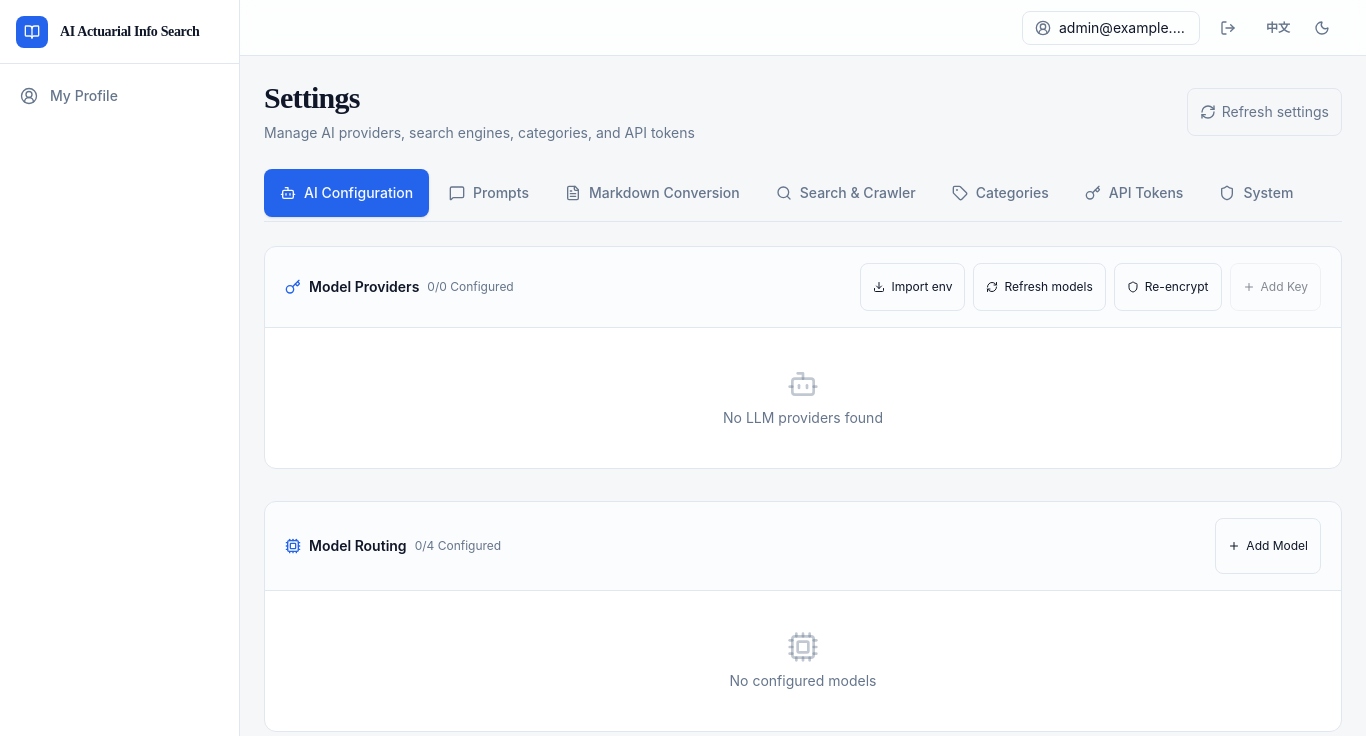
it: translates canonical role choices while retaining submitted values
Click the button with test id "tab-tokens" at point(1134, 193), box x1=1069 y1=169 x2=1199 y2=217
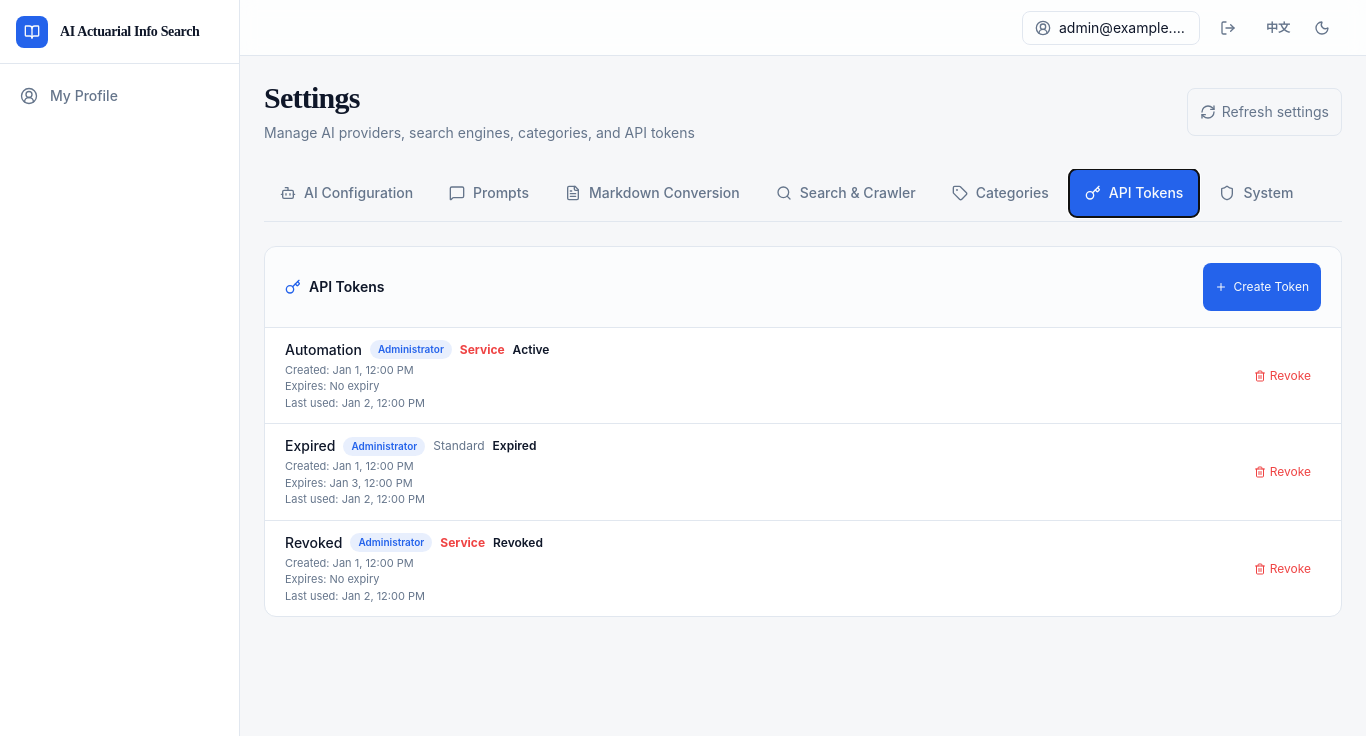
Check: the element with test id "token-row-10" is shown, box x1=265 y1=328 x2=1341 y2=424
Click the button with test id "button-create-token" at point(1262, 287), box x1=1204 y1=263 x2=1321 y2=311
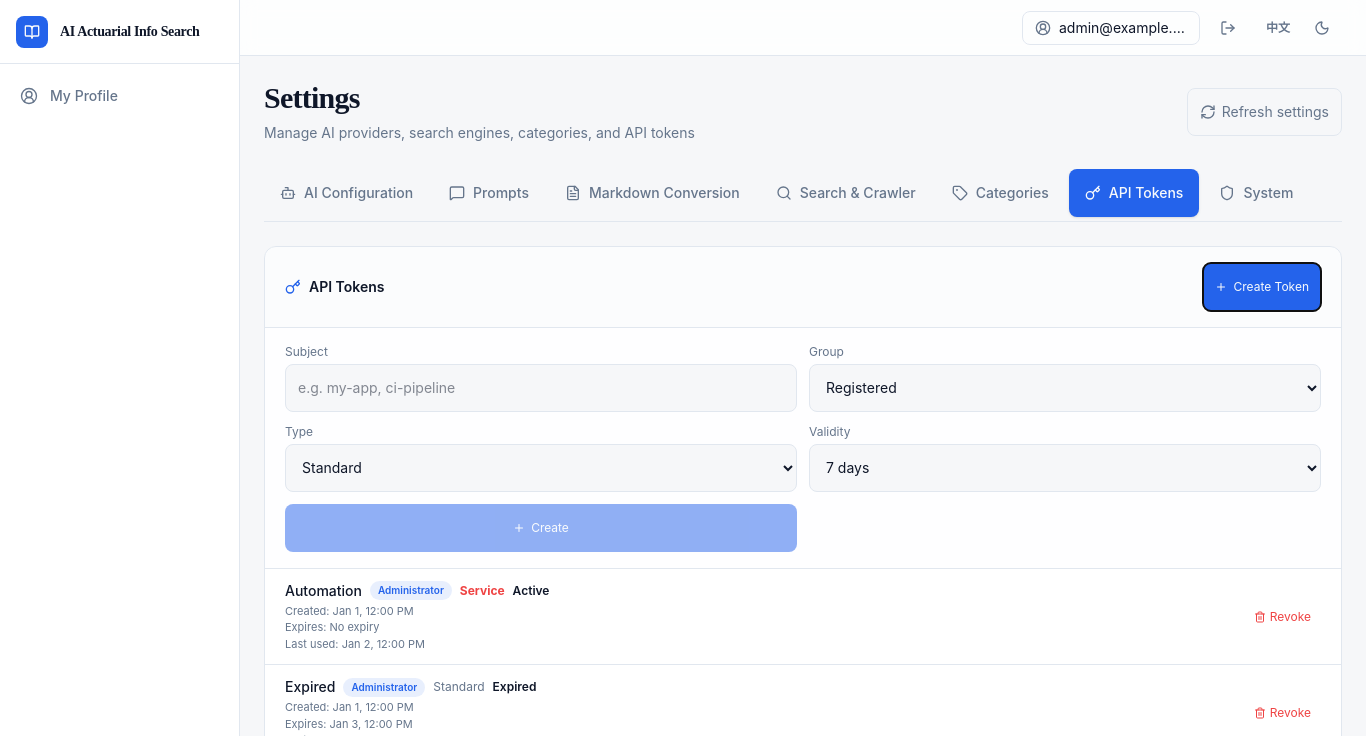
Type "New token" into the field with test id "input-token-subject" at point(541, 388), box x1=285 y1=364 x2=797 y2=412
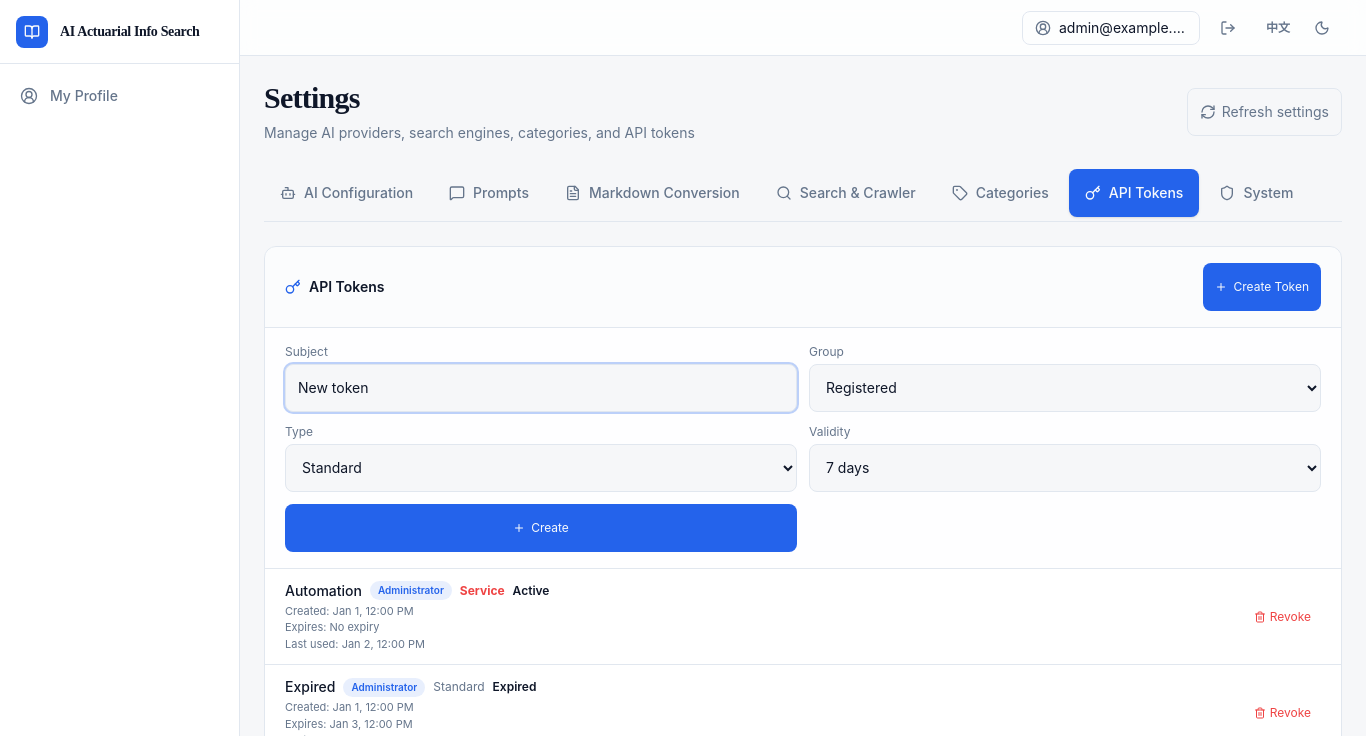
Click the button with test id "toggle-lang" at point(1278, 28), box x1=1256 y1=6 x2=1300 y2=50
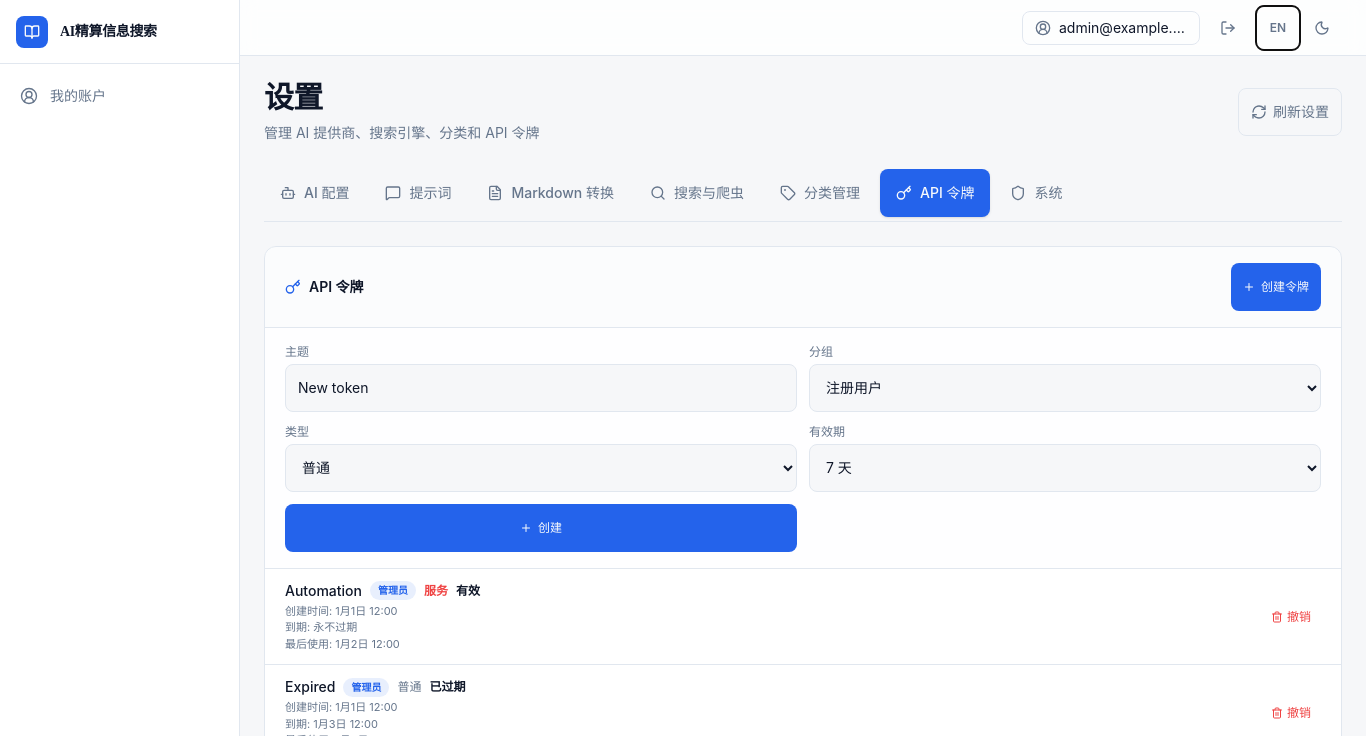
Select "操作员" in the dropdown with test id "select-token-group" at point(1065, 388), box x1=809 y1=364 x2=1321 y2=412
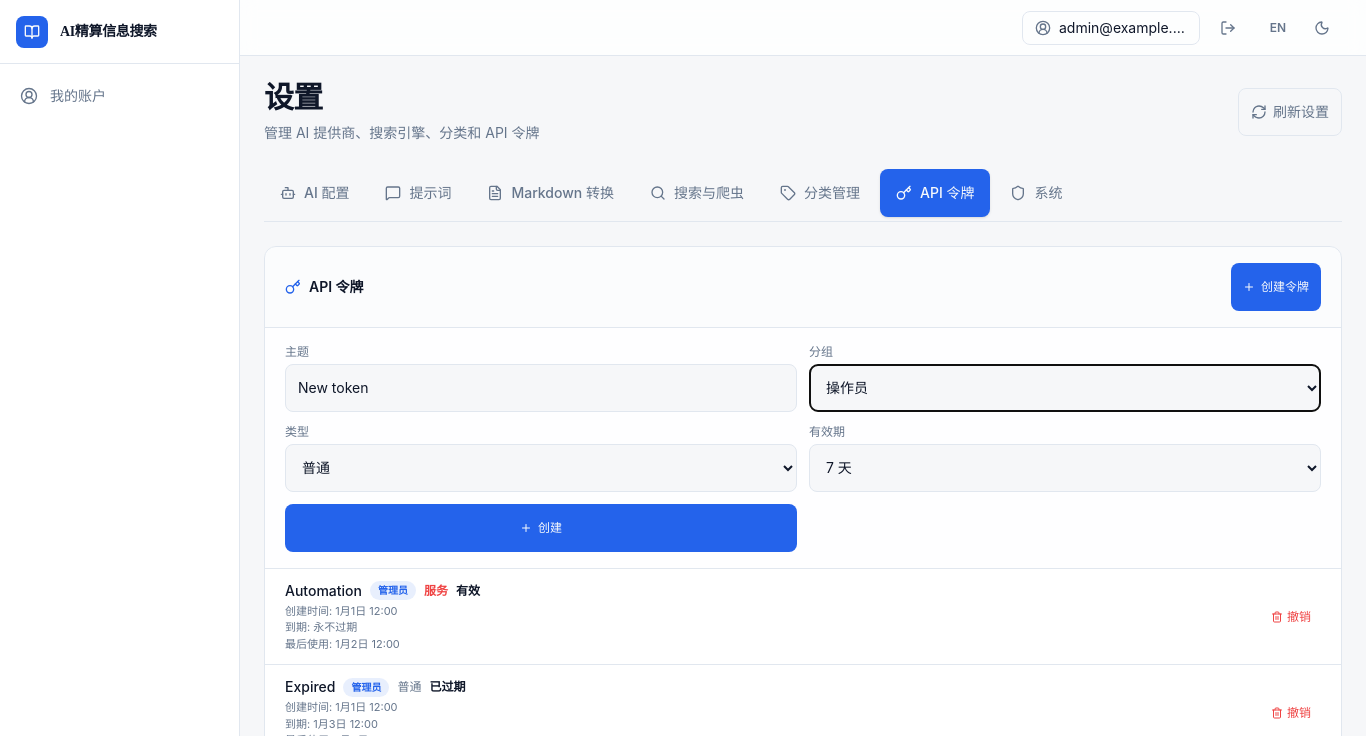
Click the button with test id "button-submit-token" at point(541, 528), box x1=285 y1=504 x2=797 y2=552
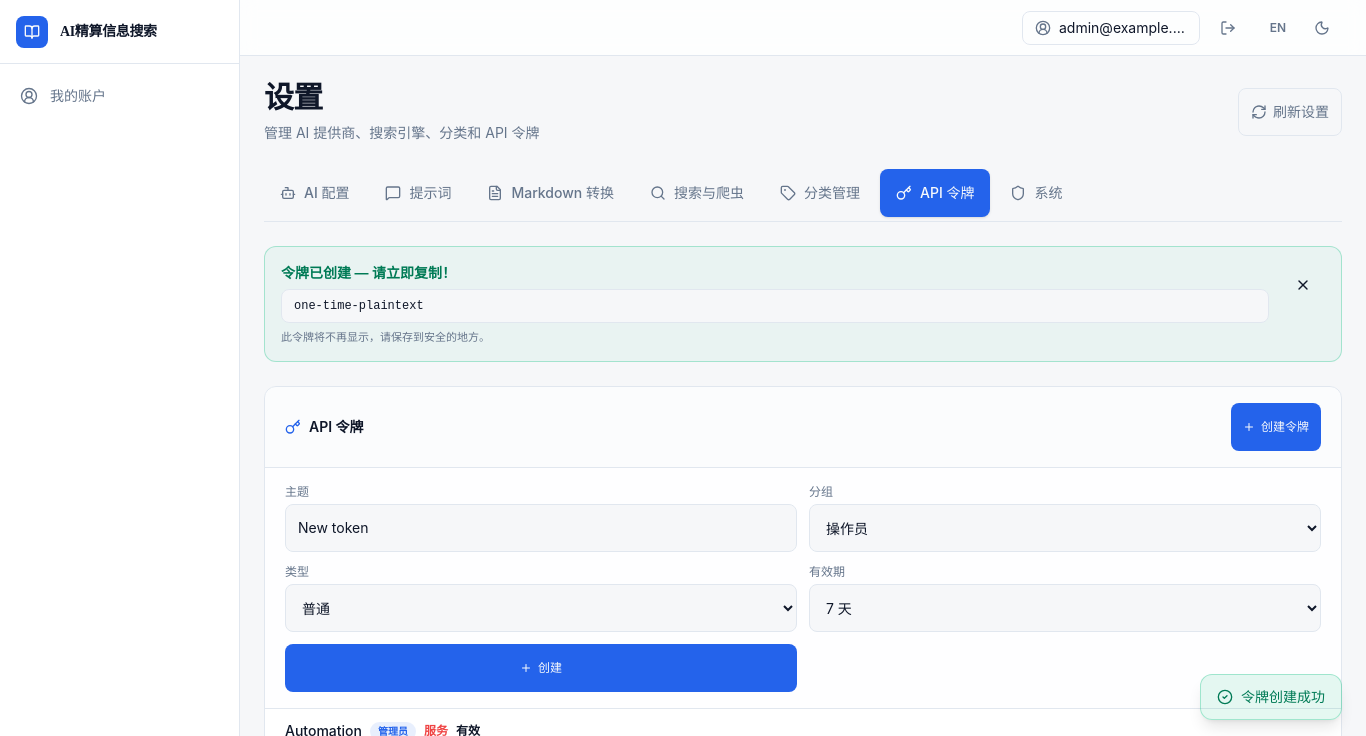
Check: the text "one-time-plaintext" is shown, box x1=281 y1=289 x2=1269 y2=323
